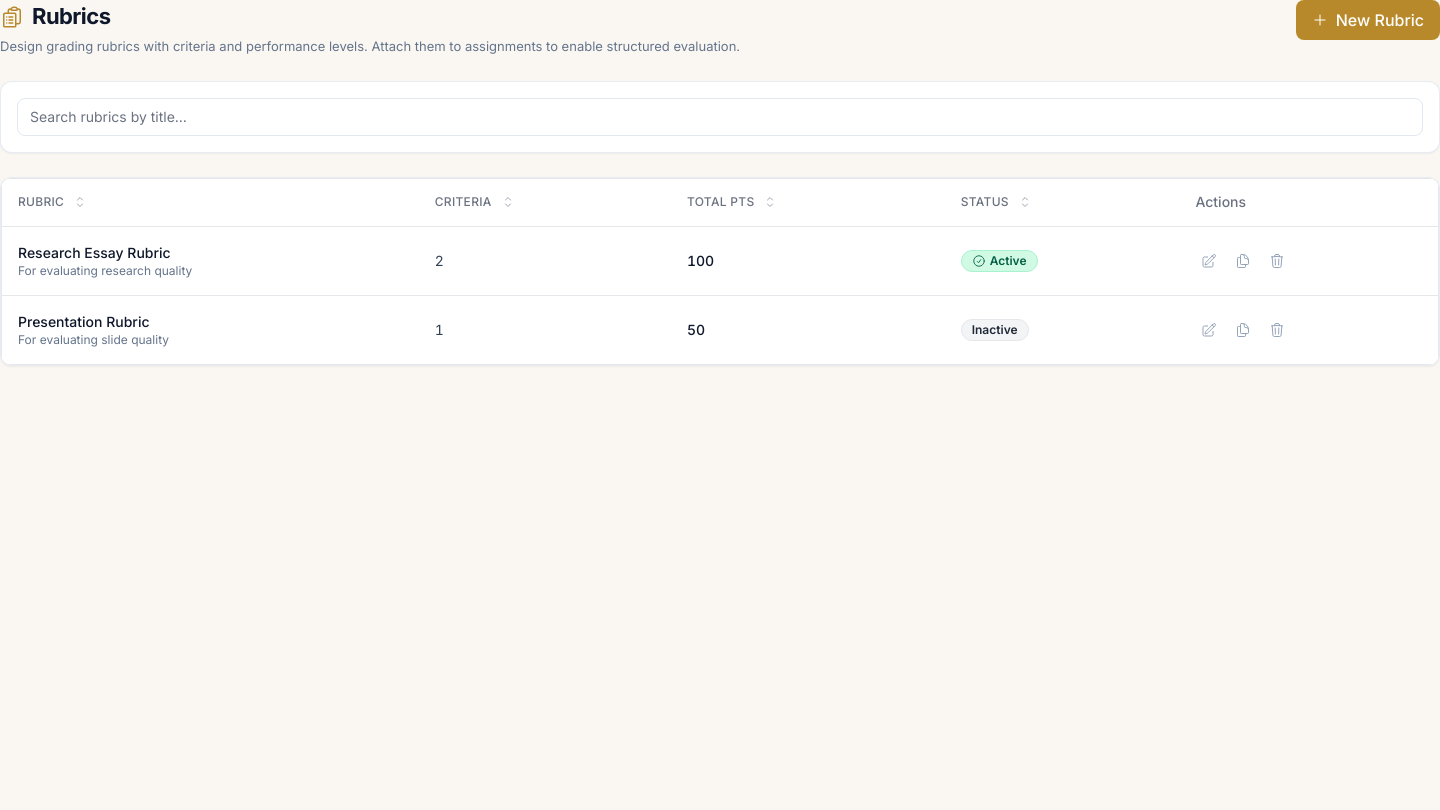
Test case: RubricPage › delete dialog still shows correct title after deleteTarget is cleared
# Multiple rows → use getAllByTitle and take the first.
Click the button titled "Delete rubric" in the row of "Research Essay Rubric" at (1278, 261), box top-left (1264, 247), bottom-right (1292, 275)
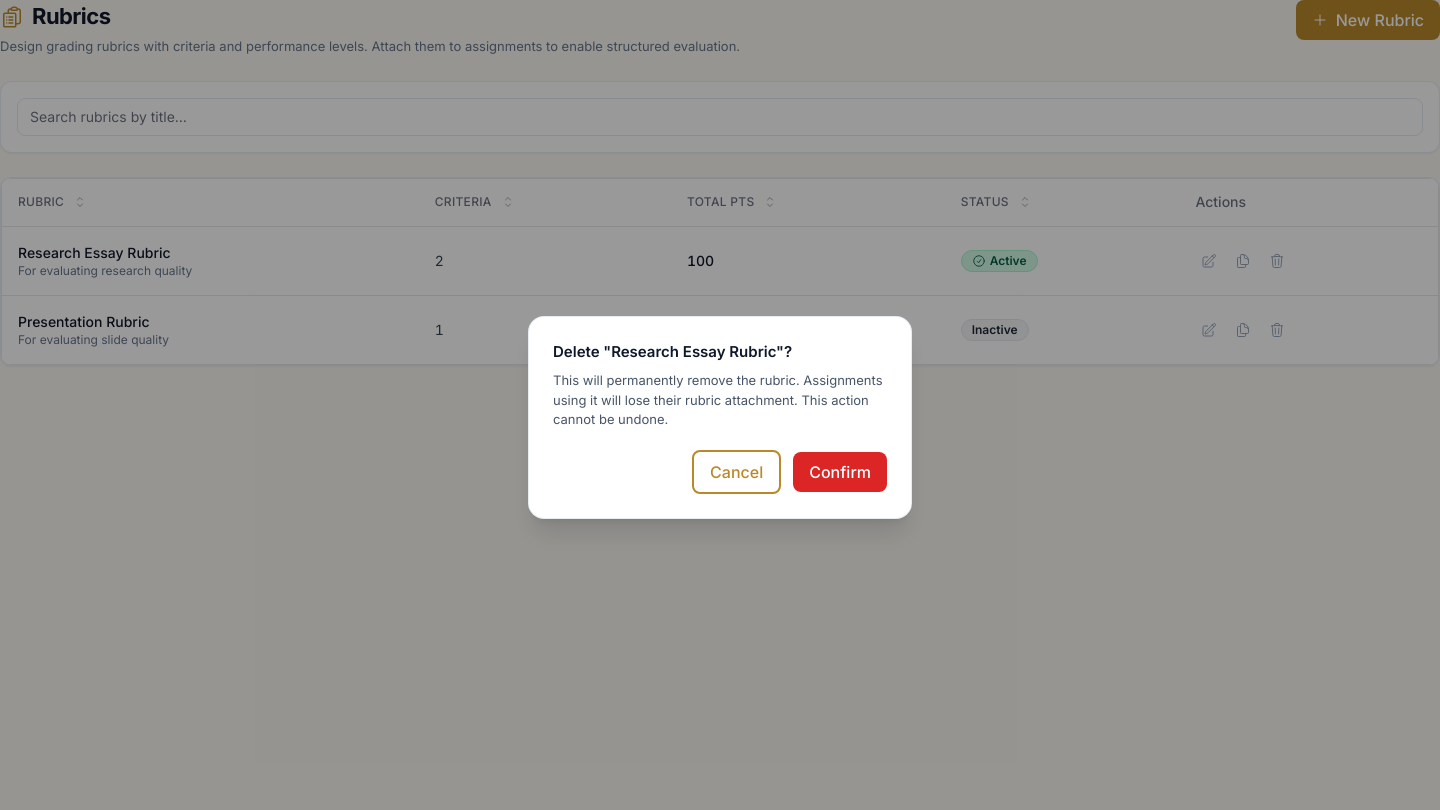
expect the heading "Delete \"Research Essay Rubric\"?" is shown: met, box top-left (553, 342), bottom-right (792, 360)
Click the button "Cancel" at (737, 472), box top-left (692, 450), bottom-right (781, 494)
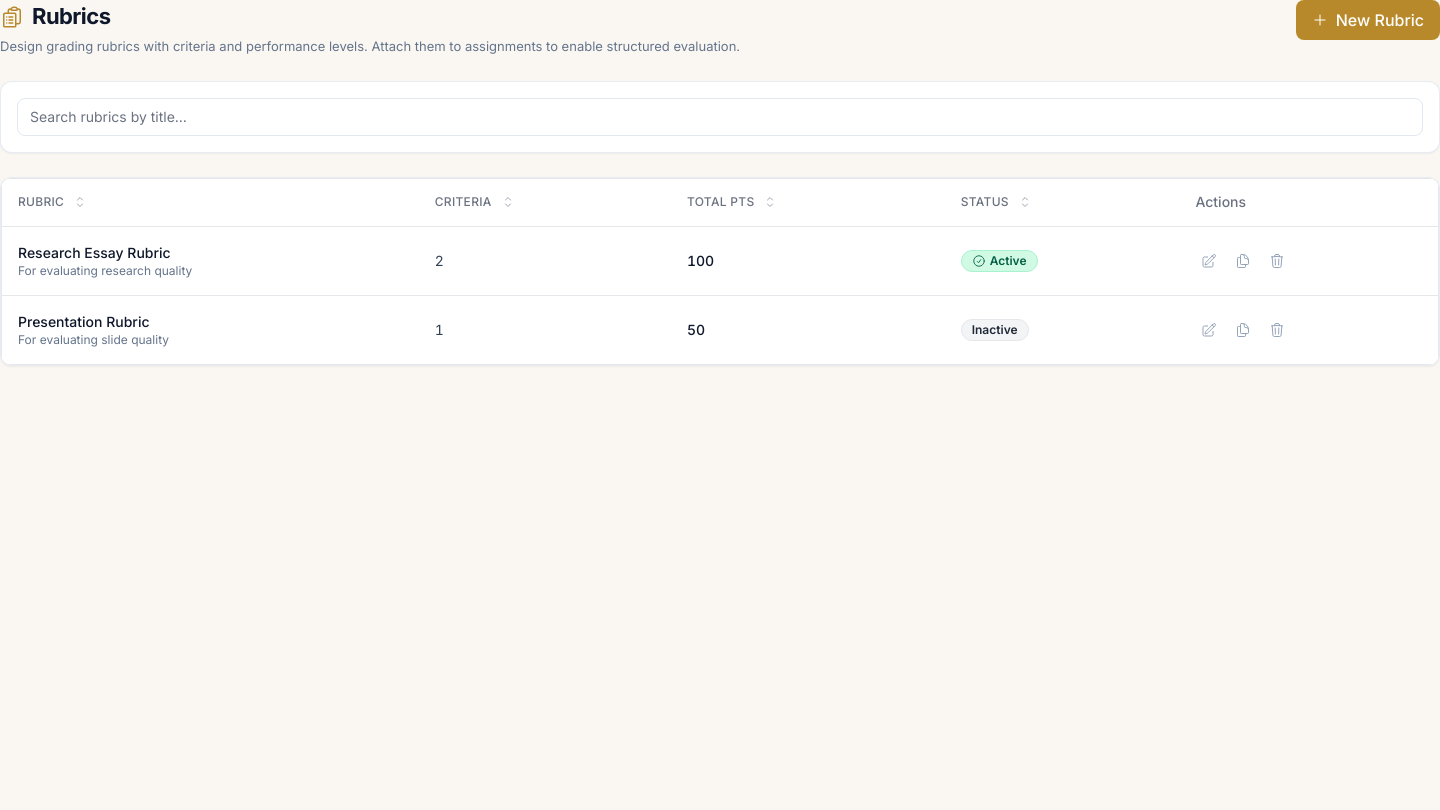
expect the heading "Delete \"Research Essay Rubric\"?" is gone: met
